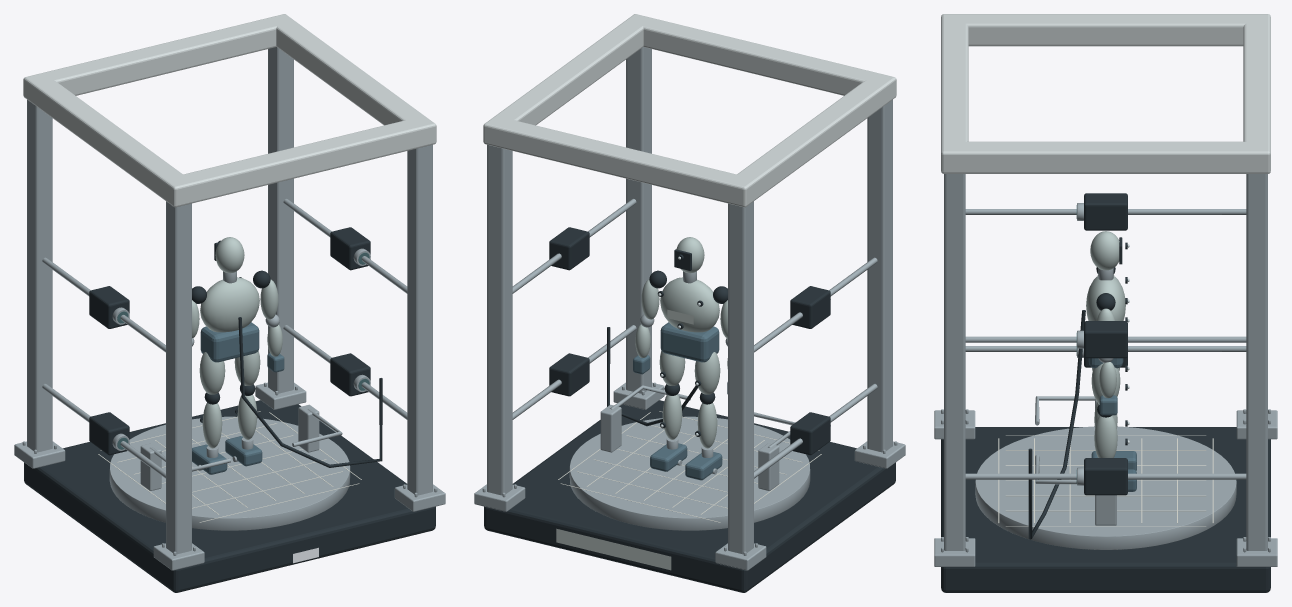
Rendered from OD_InstrumentedTestRig.fbx.
3 renders of one model, left to right at view 1: azimuth 30°, elevation 25°; view 2: azimuth 150°, elevation 25°; view 3: azimuth 270°, elevation 25°, orthographic. The views are drawn at different scales.
Visible parts, largest first — view 1: OD_InstrumentedTestRig; view 2: OD_InstrumentedTestRig; view 3: OD_InstrumentedTestRig.
Part boxes in pixels (box(x1,y1,x2,y2)): OD_InstrumentedTestRig: box(14, 14, 445, 592); OD_InstrumentedTestRig: box(474, 14, 905, 592); OD_InstrumentedTestRig: box(934, 14, 1277, 592).
Bounding box in the file's own units: 250 × 355 × 250.
